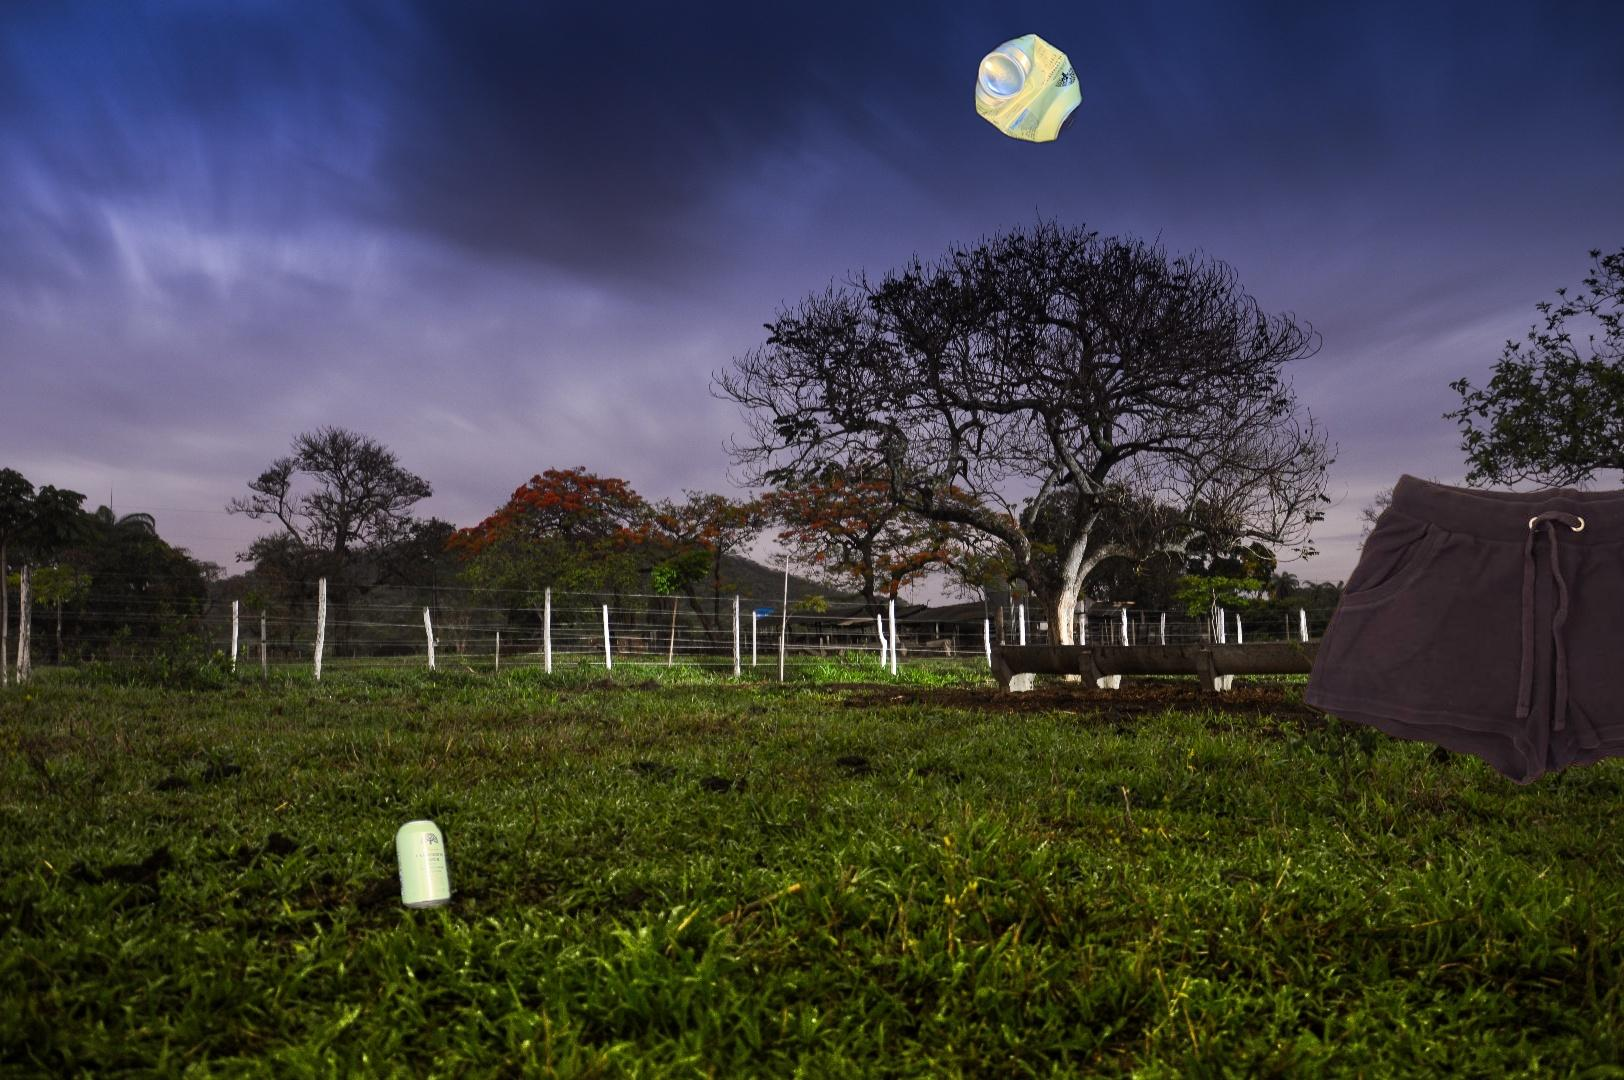clothes: (1298, 470, 1624, 791)
metal-cans: (382, 783, 519, 925), (970, 27, 1088, 149)
